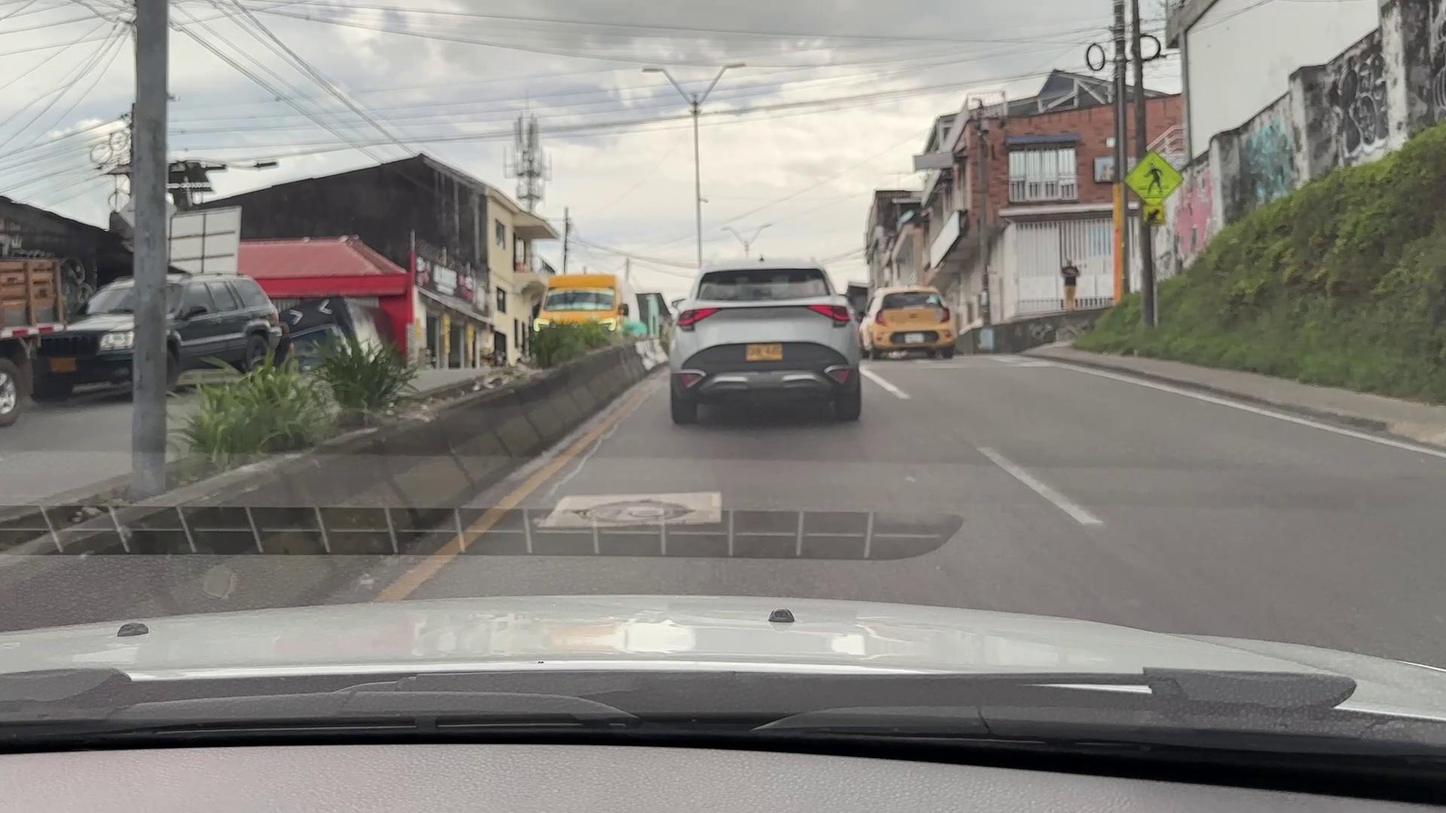registro: (584, 500, 689, 524)
